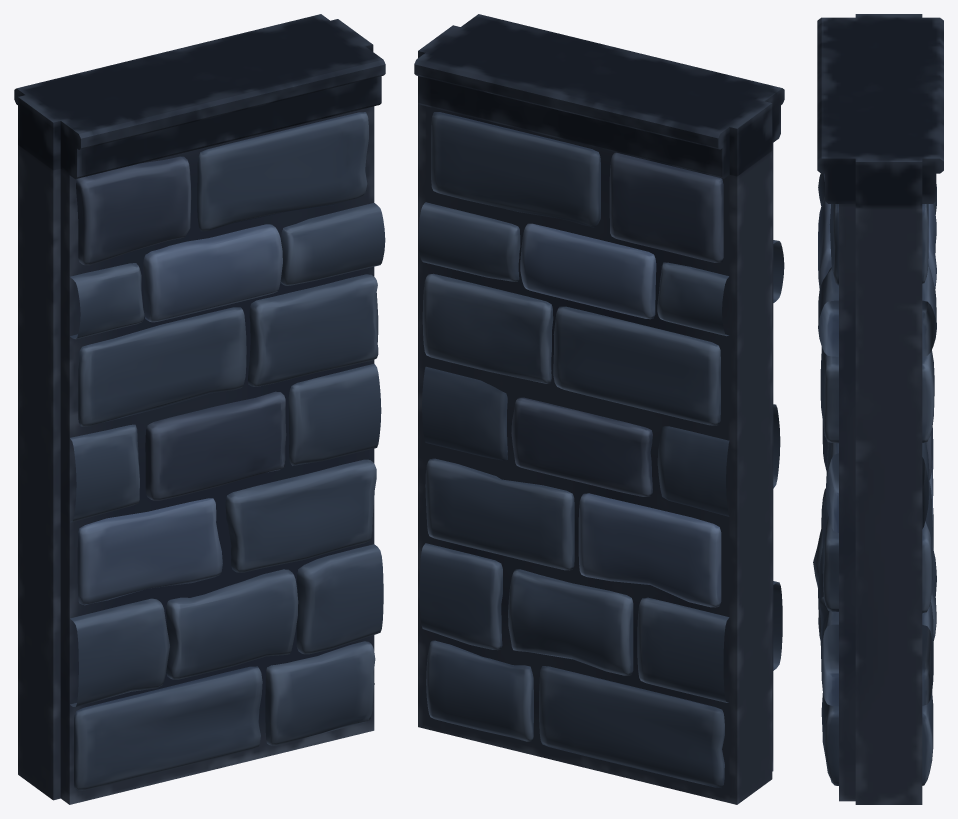
Rendered from Wall1-3.fbx.
3 views of the same model, side by side, from view 1: azimuth 30°, elevation 25°; view 2: azimuth 150°, elevation 25°; view 3: azimuth 270°, elevation 25° (orthographic). The views are drawn at different scales.
Visible parts, largest first — view 1: WallTileB2; view 2: WallTileB2; view 3: WallTileB2.
Part boxes in pixels (x1=…): WallTileB2: x1=14, y1=14, x2=385, y2=804; WallTileB2: x1=414, y1=14, x2=784, y2=804; WallTileB2: x1=813, y1=14, x2=943, y2=804.
Bounding box in the file's own units: 2.1 × 4.25 × 0.784.
